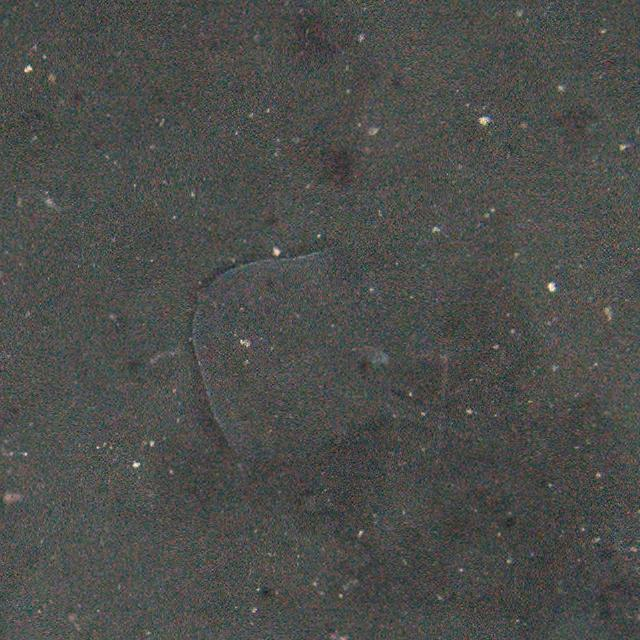skate: (191, 245, 471, 476)
